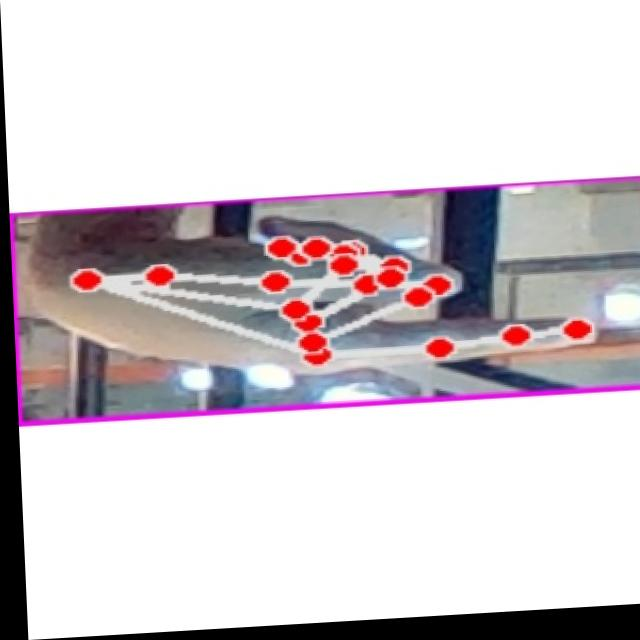G: (32, 190, 611, 404)
